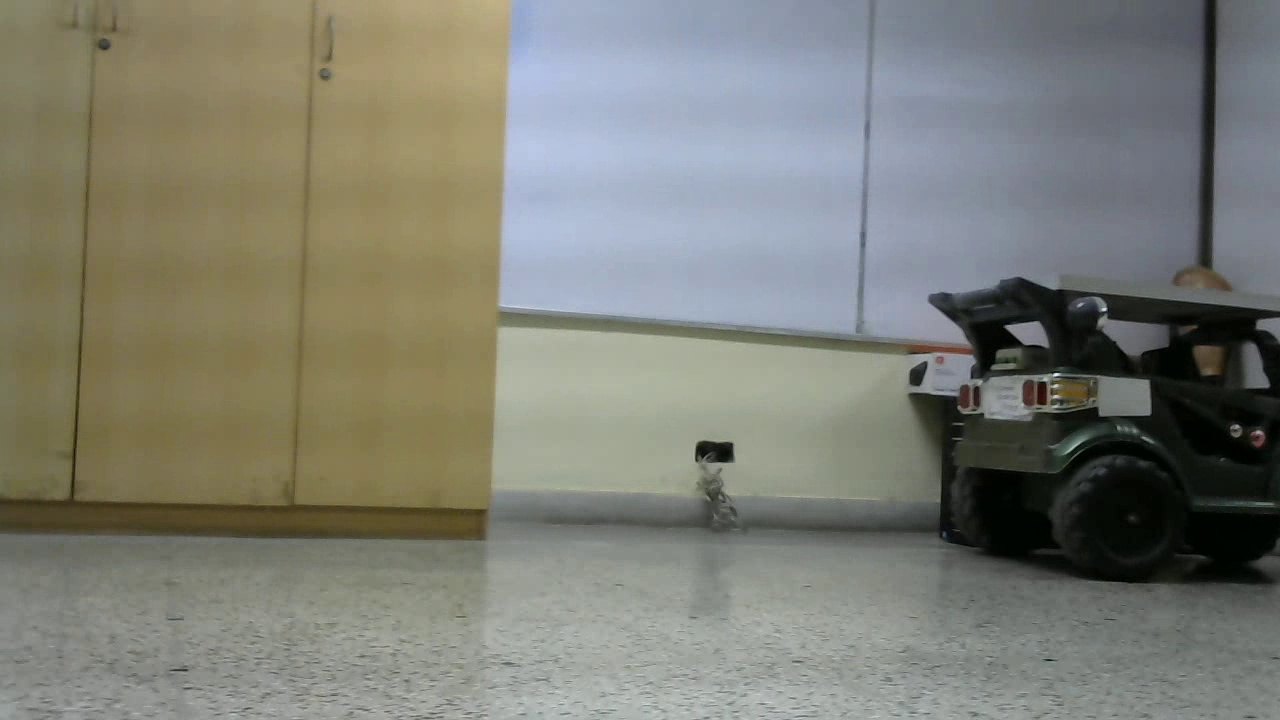chair: (1077, 1, 1280, 688)
